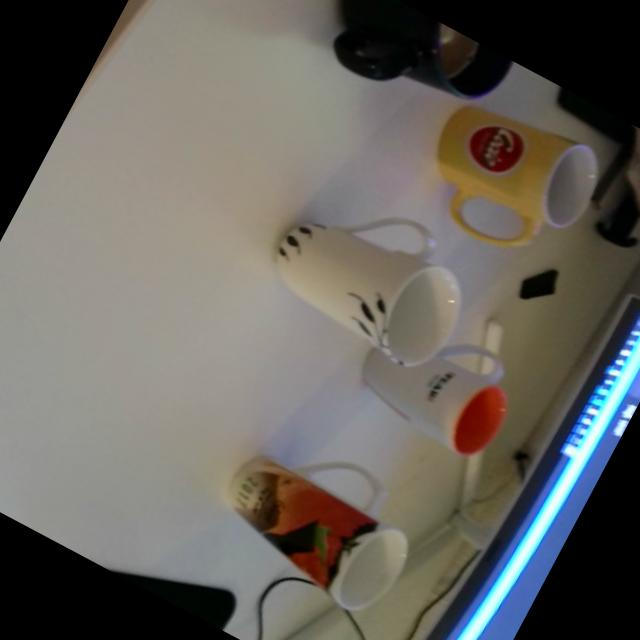Cocio Cup: (404, 78, 616, 278)
Cup: (306, 0, 516, 137)
Halloween cup: (202, 445, 418, 621)
Hand painted cup: (251, 169, 491, 382)
White Cup: (344, 298, 534, 467)
